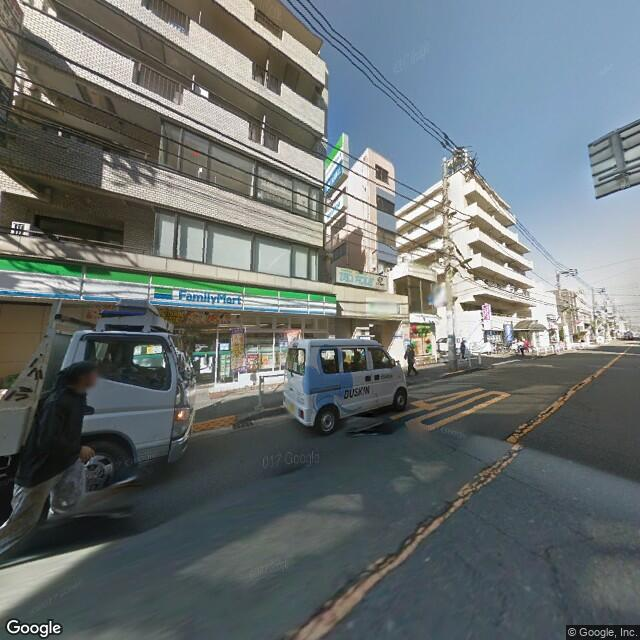family_mart: (2, 252, 337, 317), (146, 275, 249, 310), (323, 132, 347, 188)
